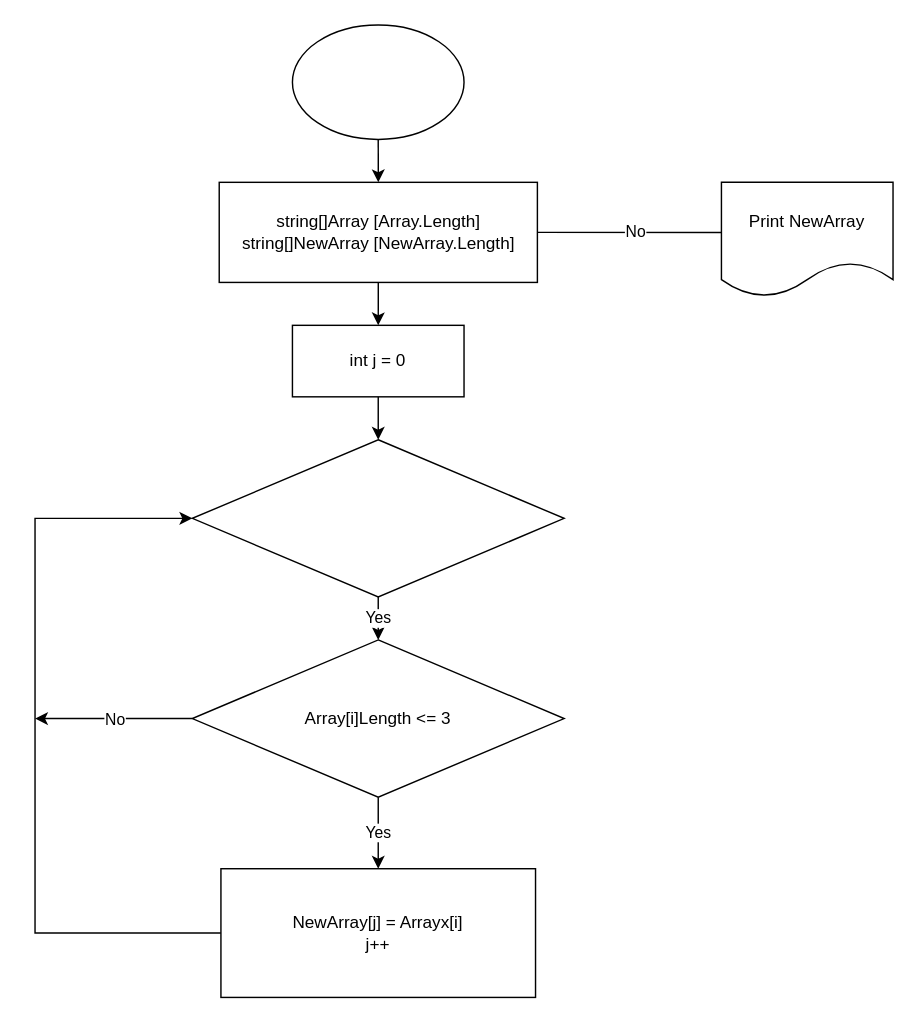
This 918x1022 diagram has some shape labels left out. The box of each missing label's shape, as (x1, y1, x2, y2) in pixels:
for int i = 0; i <= Array.Length; i++: (191, 438, 564, 597)
START: (291, 24, 464, 139)
